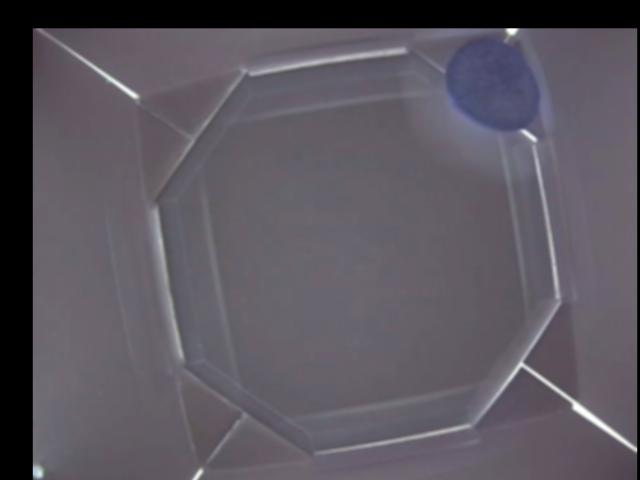Mooli: (444, 36, 540, 135)
